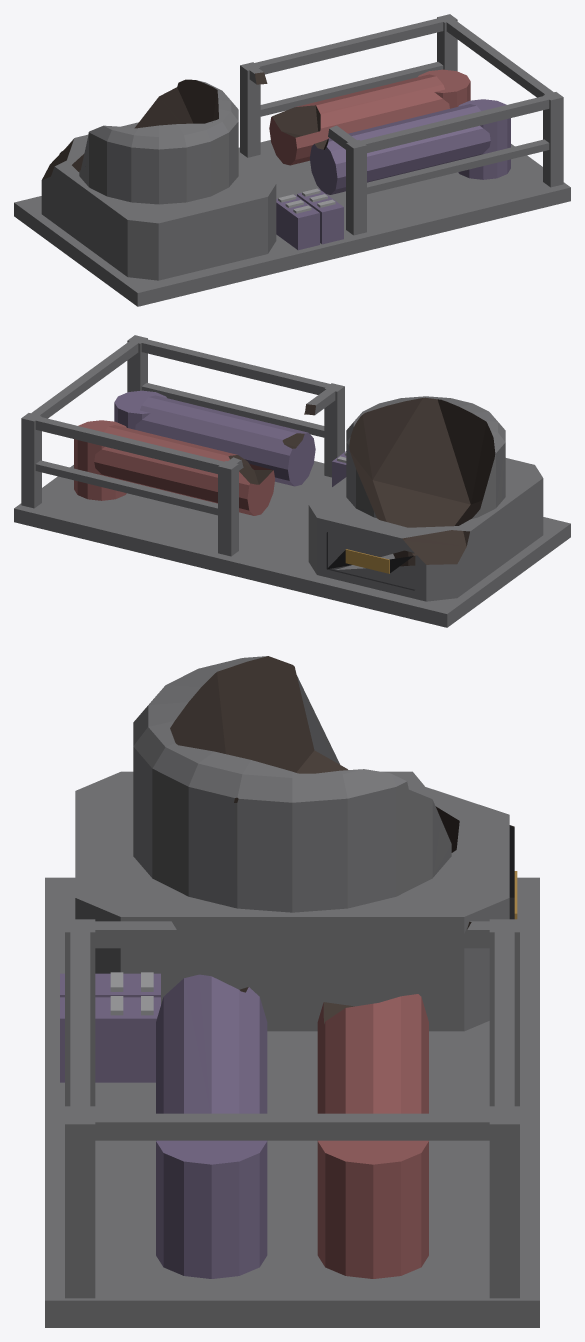
File: vge_d_astrofuelsynthesizer.obj
3 views of the same model, one above another, from view 1: azimuth 30°, elevation 25°; view 2: azimuth 150°, elevation 25°; view 3: azimuth 270°, elevation 25° (orthographic). The views are drawn at different scales.
Parts seen in each view (by area): view 1: vge_d_astrofuelsynthesizer; view 2: vge_d_astrofuelsynthesizer; view 3: vge_d_astrofuelsynthesizer.
Part boxes in pixels (bbox=[...]): vge_d_astrofuelsynthesizer: bbox=[14, 14, 570, 306]; vge_d_astrofuelsynthesizer: bbox=[14, 335, 570, 627]; vge_d_astrofuelsynthesizer: bbox=[45, 656, 539, 1327].
Bounding box in the file's own units: 3.96 × 1.21 × 1.96.
